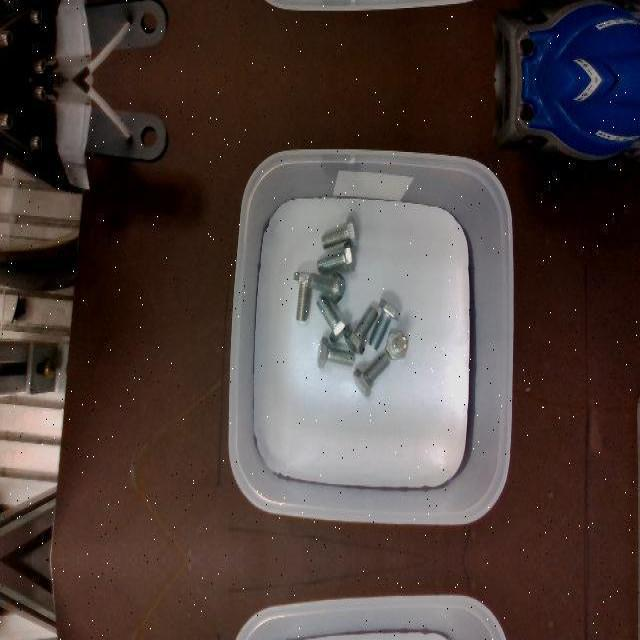screw: (353, 352, 390, 398), (368, 298, 400, 350), (316, 295, 350, 343), (344, 306, 378, 354), (316, 239, 354, 273), (321, 215, 357, 249), (317, 336, 355, 368), (308, 273, 345, 303), (385, 332, 408, 360)
